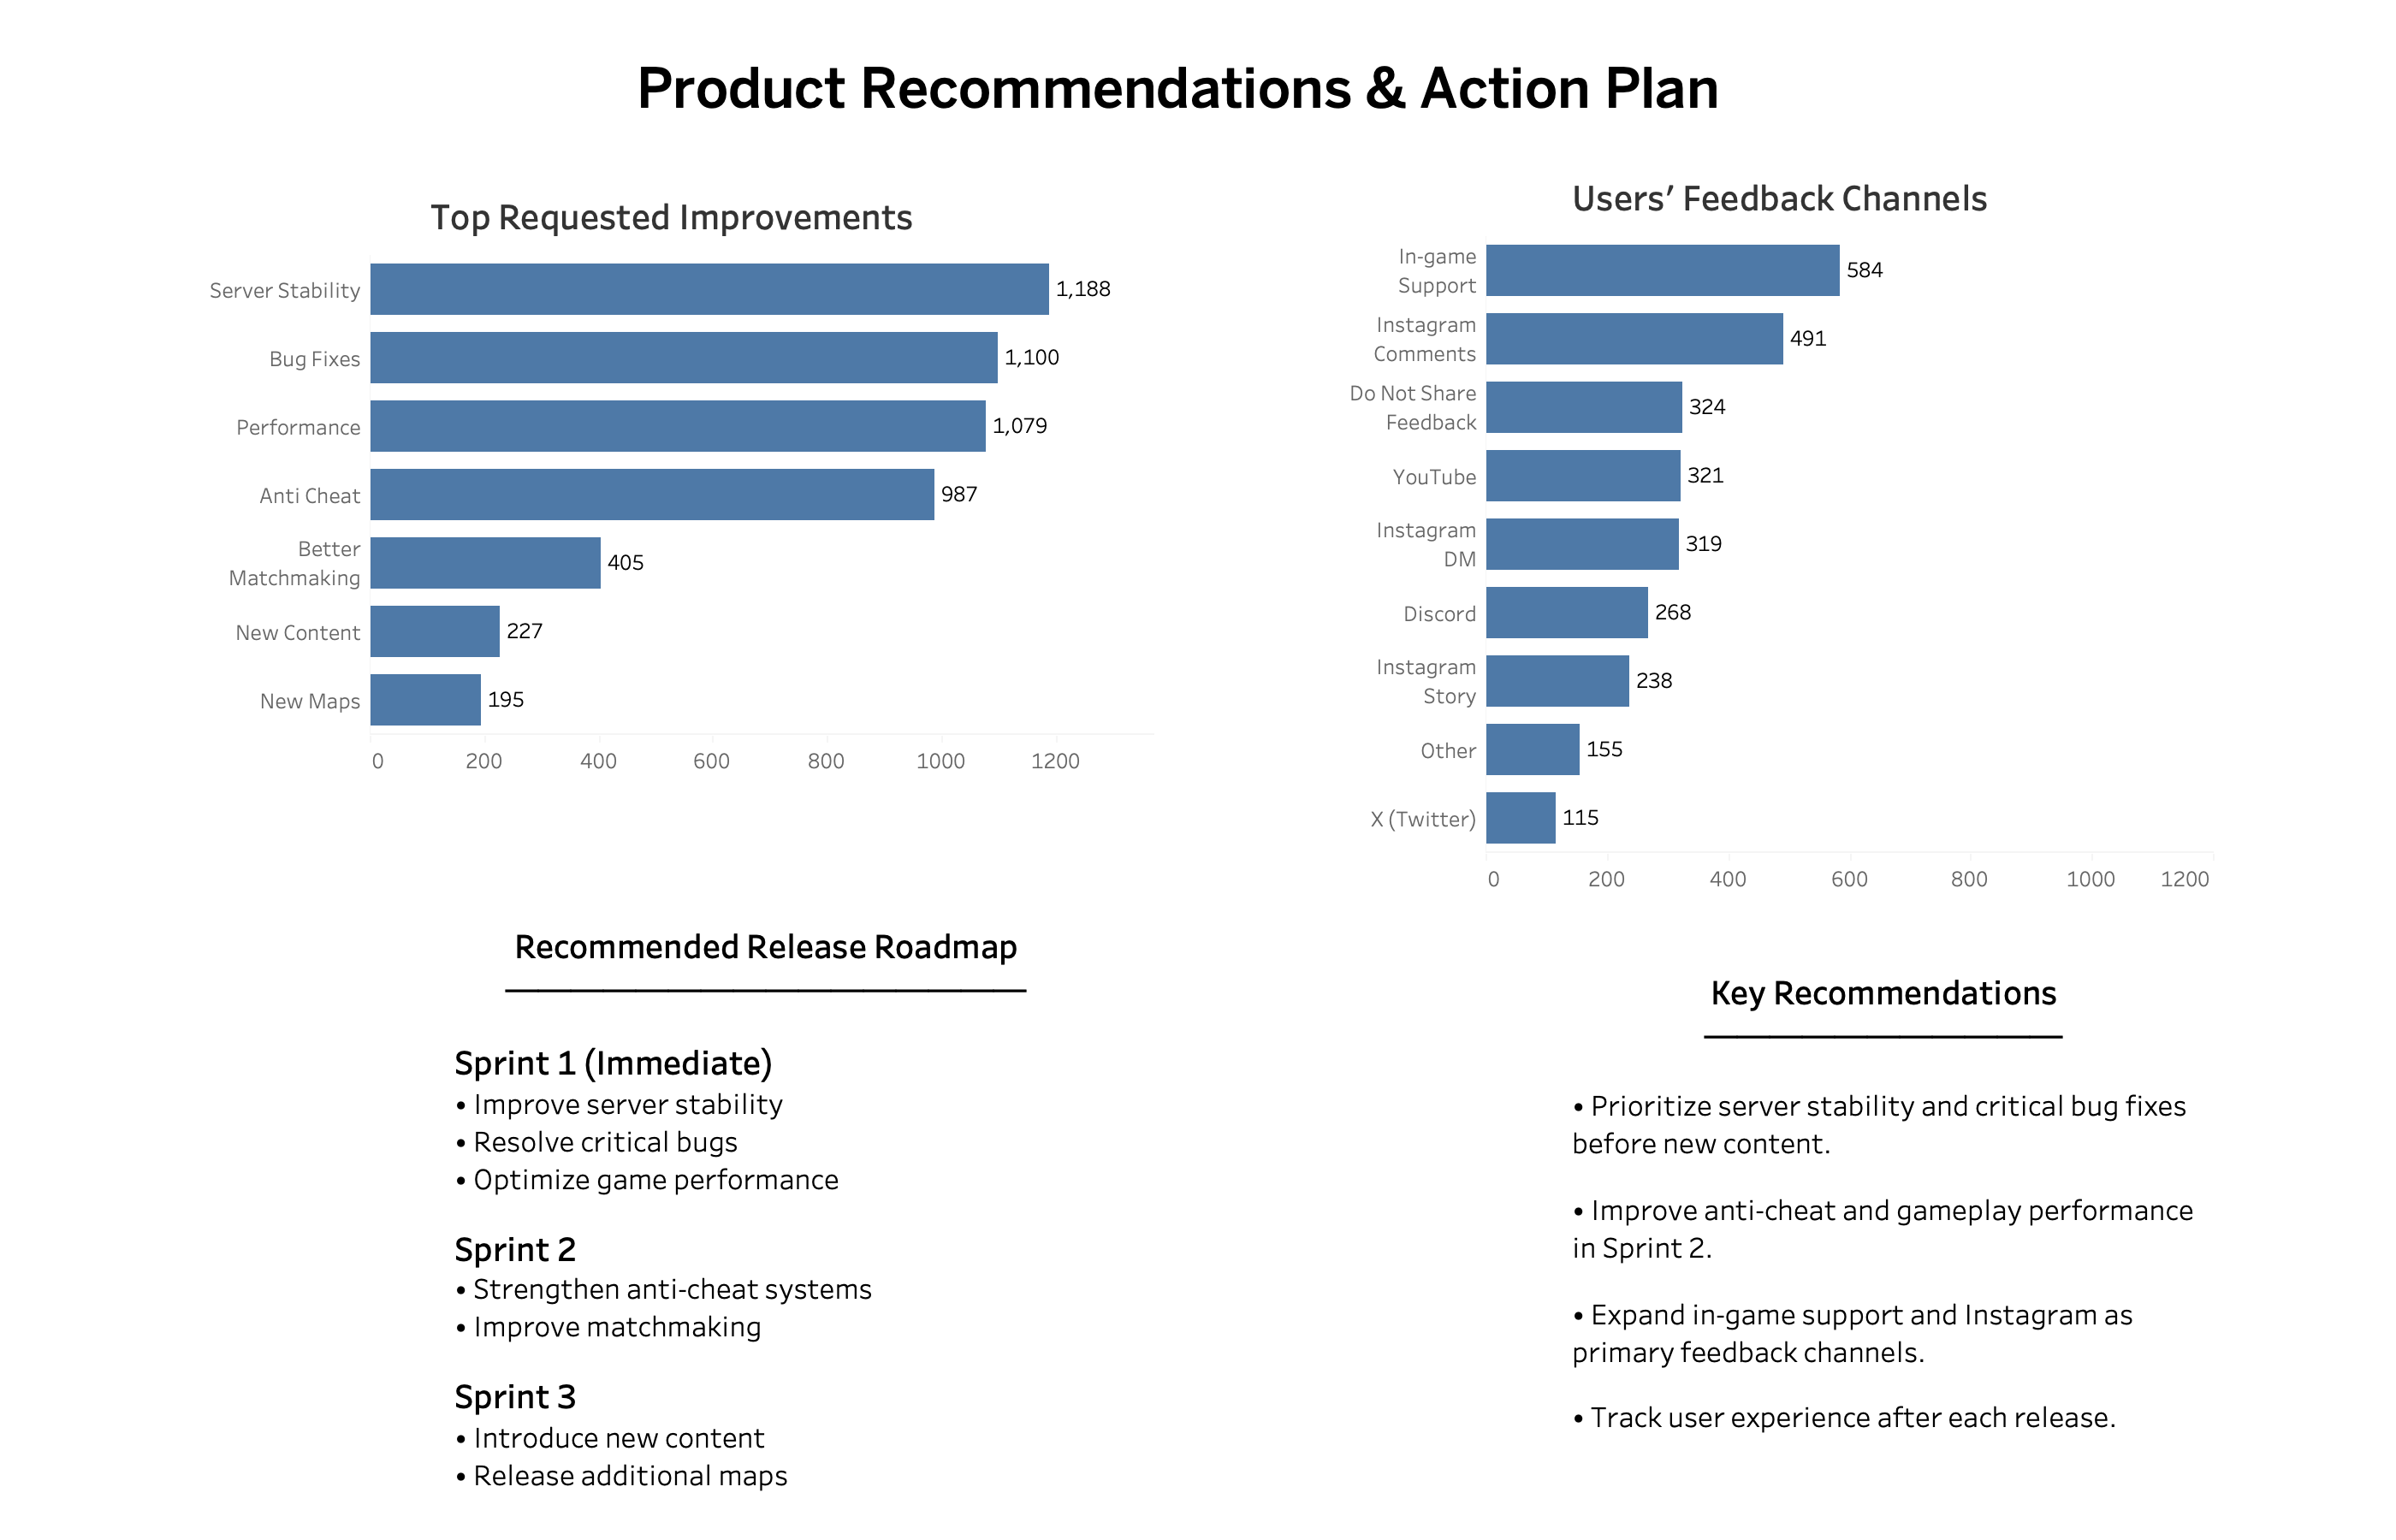

The page's visual inventory and layout, read from the dashboard file:
{"tool":"tableau","page":{"name":"Product Recommendations","canvas":[1400,900],"ordinal":2},"visuals":[{"type":"text","box":[362,6,653,93]},{"type":"worksheet","title":"Feedback Channels","mark":"Automatic","rows":["channel"],"cols":["respondents"],"box":[788,95,505,476]},{"type":"worksheet","title":"Top Feature Priorities","mark":"Automatic","rows":["feature"],"cols":["votes"],"box":[112,106,562,362]},{"type":"text","box":[263,529,370,362]},{"type":"text","box":[916,563,370,288]}]}

Visuals, with their boxes in screenshot pixels (x1, y1, x2, y2), scaled from the page's 1400x900 canvas onto the 2396x1540 screenshot:
text: bbox=[620, 10, 1737, 169]
"Feedback Channels" worksheet: bbox=[1349, 163, 2213, 977]
"Top Feature Priorities" worksheet: bbox=[192, 181, 1154, 801]
text: bbox=[450, 905, 1083, 1525]
text: bbox=[1568, 963, 2201, 1456]
